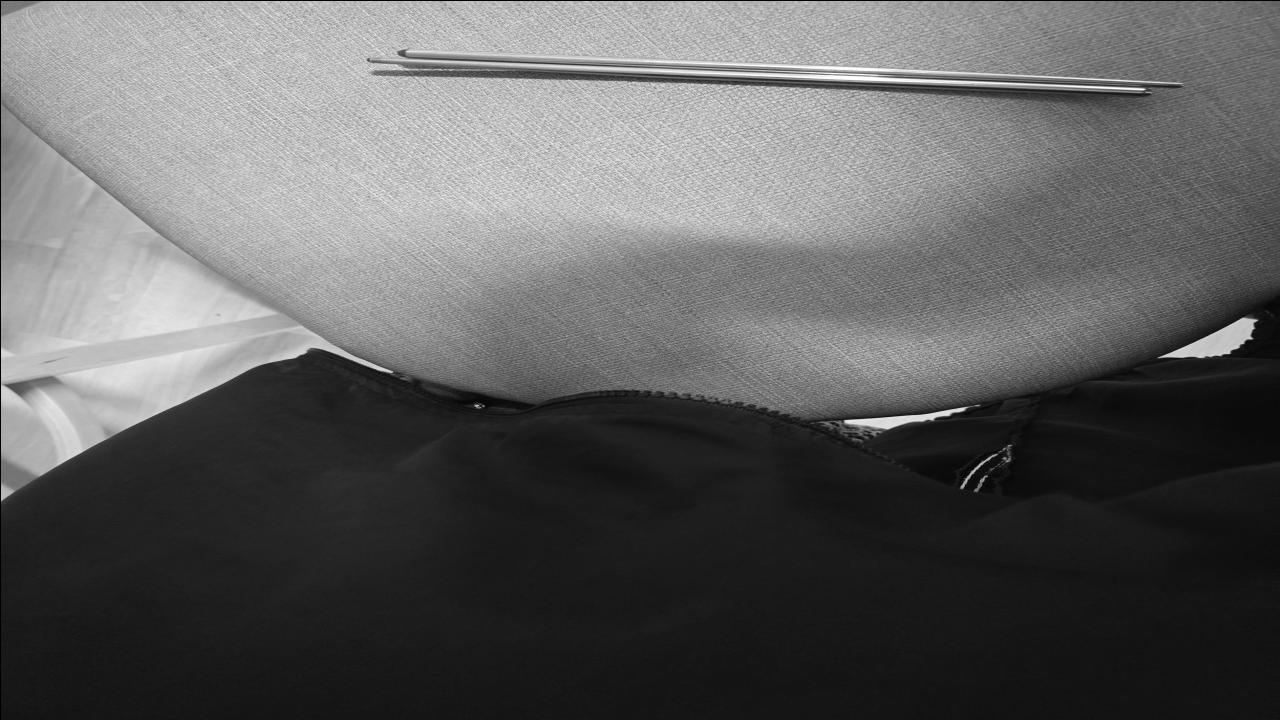chopstick: (357, 42, 1192, 103)
